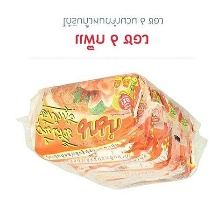snack: (9, 67, 213, 196)
